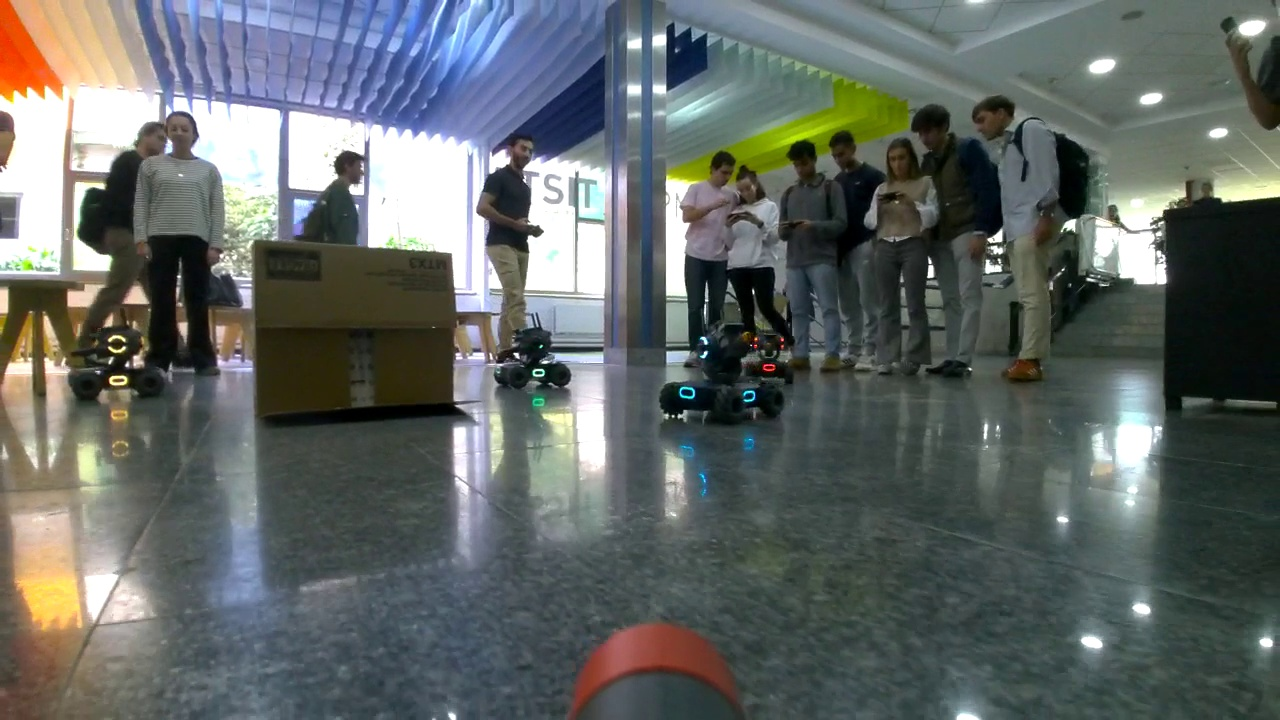robot: (661, 324, 785, 422), (69, 327, 163, 396), (492, 328, 570, 386), (747, 333, 793, 384)
